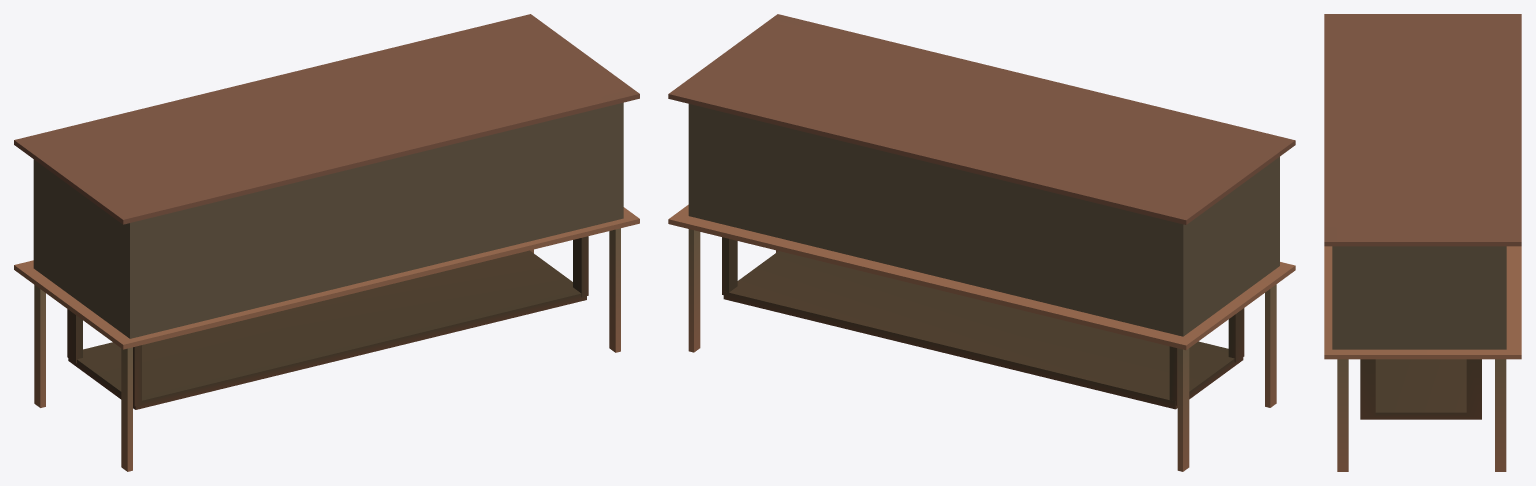
The picture shows the model from 3 angles, left to right: view 1: azimuth 30°, elevation 25°; view 2: azimuth 150°, elevation 25°; view 3: azimuth 270°, elevation 25°; orthographic projection. The views are drawn at different scales.
Parts seen in each view (by area): view 1: chest_body, lid, lower_shelf, base_ledge, leg.001, leg.003, leg.002, support.003, support.002; view 2: chest_body, lid, lower_shelf, base_ledge, leg.002, leg.004, leg.001, support.004, support.001; view 3: lid, chest_body, lower_shelf, base_ledge, leg.003, leg.004, support.003, support.004.
Part boxes in pixels (box(x1,y1,x2,y2)): chest_body: box(33, 102, 623, 338); lid: box(14, 14, 639, 224); lower_shelf: box(68, 250, 586, 409); base_ledge: box(14, 207, 639, 349); leg.001: box(121, 347, 132, 471); leg.003: box(609, 228, 620, 352); leg.002: box(34, 285, 45, 407); support.003: box(573, 236, 588, 297); support.002: box(67, 309, 82, 363); chest_body: box(688, 104, 1279, 336); lid: box(668, 14, 1295, 224); lower_shelf: box(723, 251, 1243, 409); base_ledge: box(668, 204, 1295, 350); leg.002: box(1177, 348, 1189, 471); leg.004: box(688, 229, 700, 352); leg.001: box(1265, 284, 1276, 407); support.004: box(722, 237, 737, 294); support.001: box(1228, 308, 1244, 362); lid: box(1324, 14, 1521, 246); chest_body: box(1332, 246, 1506, 349); lower_shelf: box(1360, 359, 1481, 419); base_ledge: box(1324, 246, 1521, 359); leg.003: box(1337, 359, 1348, 471); leg.004: box(1495, 359, 1506, 471); support.003: box(1360, 359, 1375, 416); support.004: box(1466, 359, 1481, 416).
Size of the model in its own units: 1.8 by 0.866 by 0.6582.
